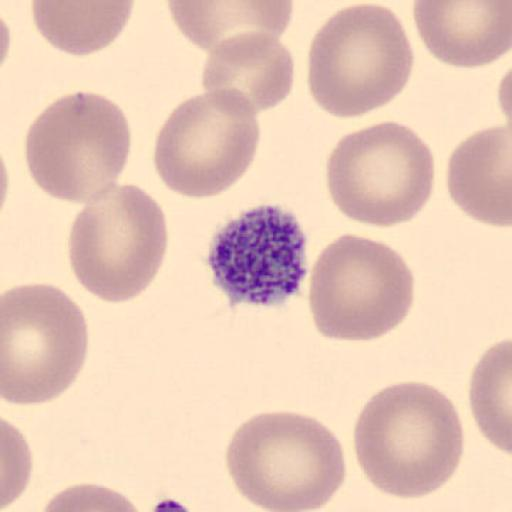Platelet: (204, 202, 312, 309), (149, 495, 194, 512)
RBC: (350, 379, 466, 501), (305, 1, 415, 120), (66, 182, 169, 306), (324, 118, 438, 230), (225, 409, 348, 512), (151, 87, 261, 201), (23, 90, 133, 204), (306, 230, 415, 344), (2, 280, 90, 408), (200, 30, 296, 114), (445, 124, 512, 230), (166, 0, 295, 54), (412, 0, 511, 69), (30, 0, 136, 58), (468, 334, 512, 457), (39, 481, 144, 512), (1, 416, 33, 512), (496, 57, 512, 125), (0, 141, 11, 223), (0, 8, 13, 77)
